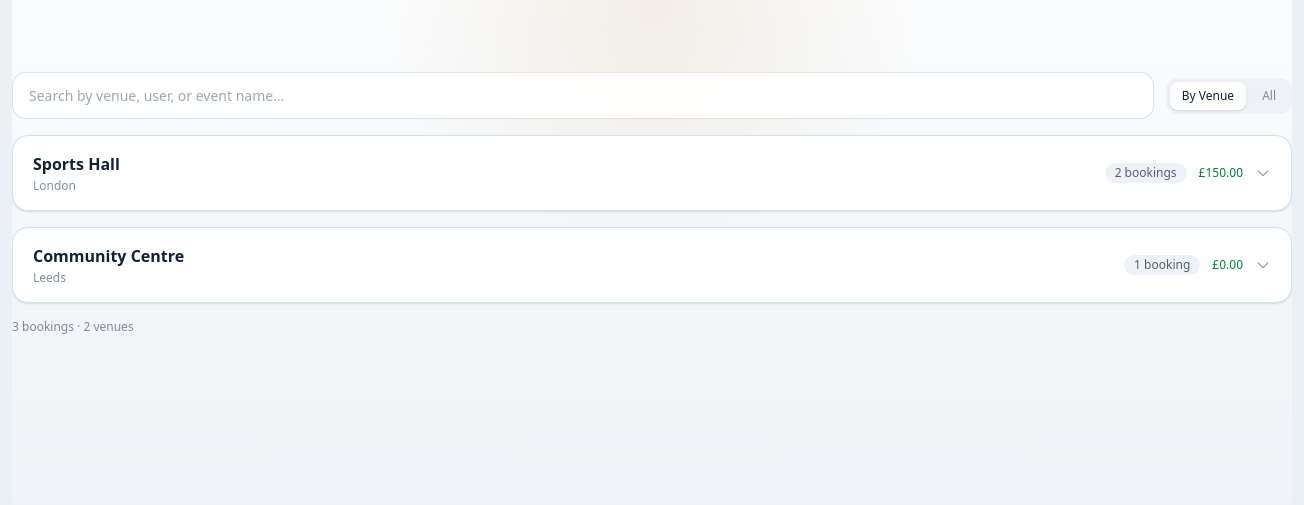
Test: VenuesTab › collapses an expanded venue group on a second click
Click the text "Sports Hall" at [76, 164], box 33,152 -> 120,176
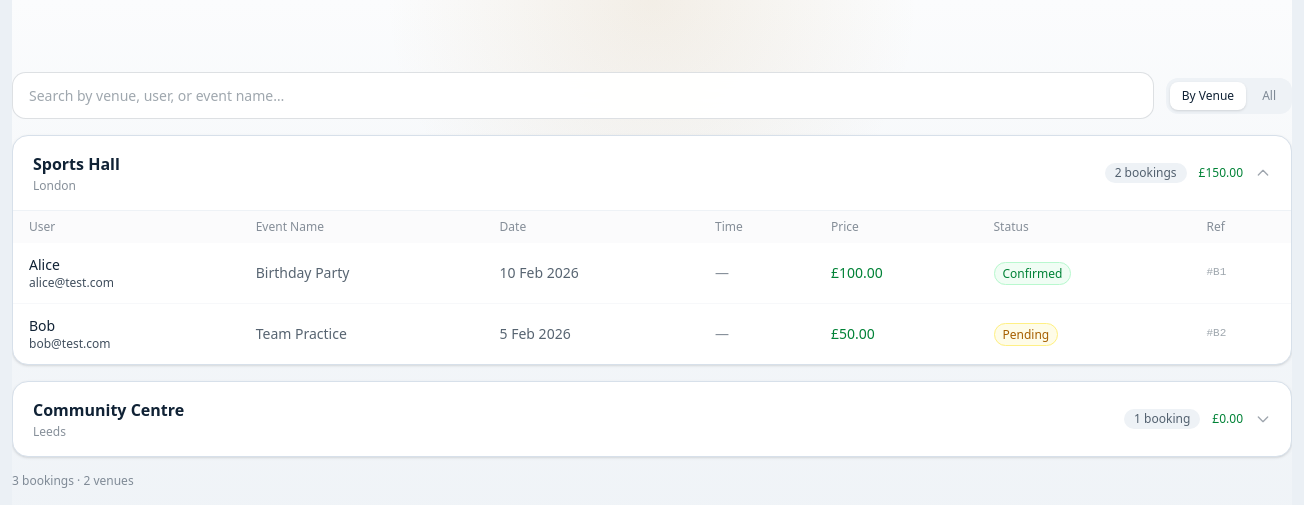
Now the text "Birthday Party" is shown, box 240,243 -> 484,304
Click the text "Sports Hall" at [76, 164], box 33,152 -> 120,176
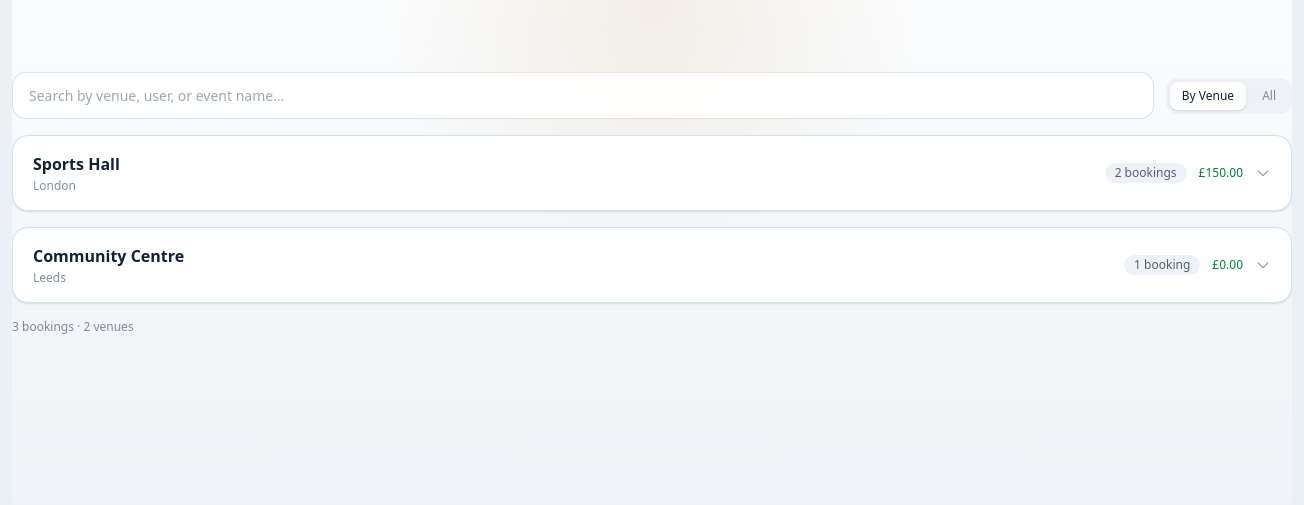
Now the text "Birthday Party" is gone
